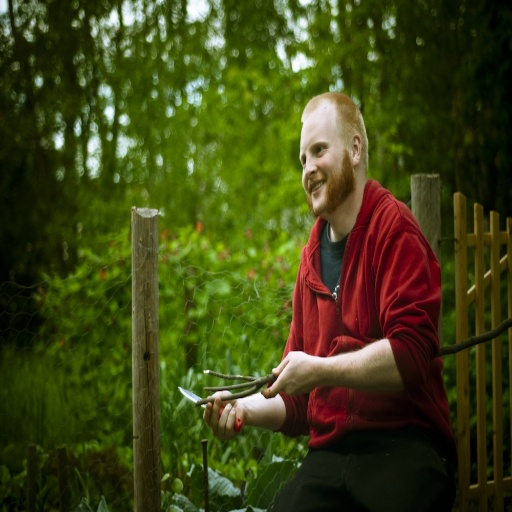hand: (259, 349, 317, 400), (200, 395, 252, 447)
